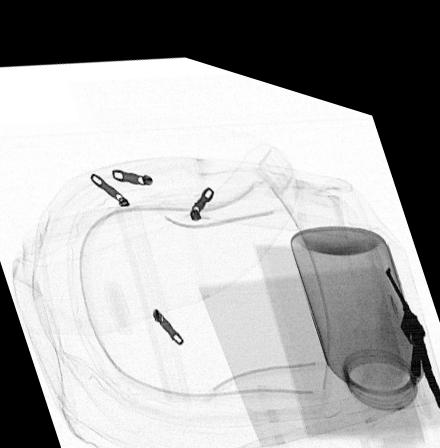Gun: (383, 241, 440, 382)
